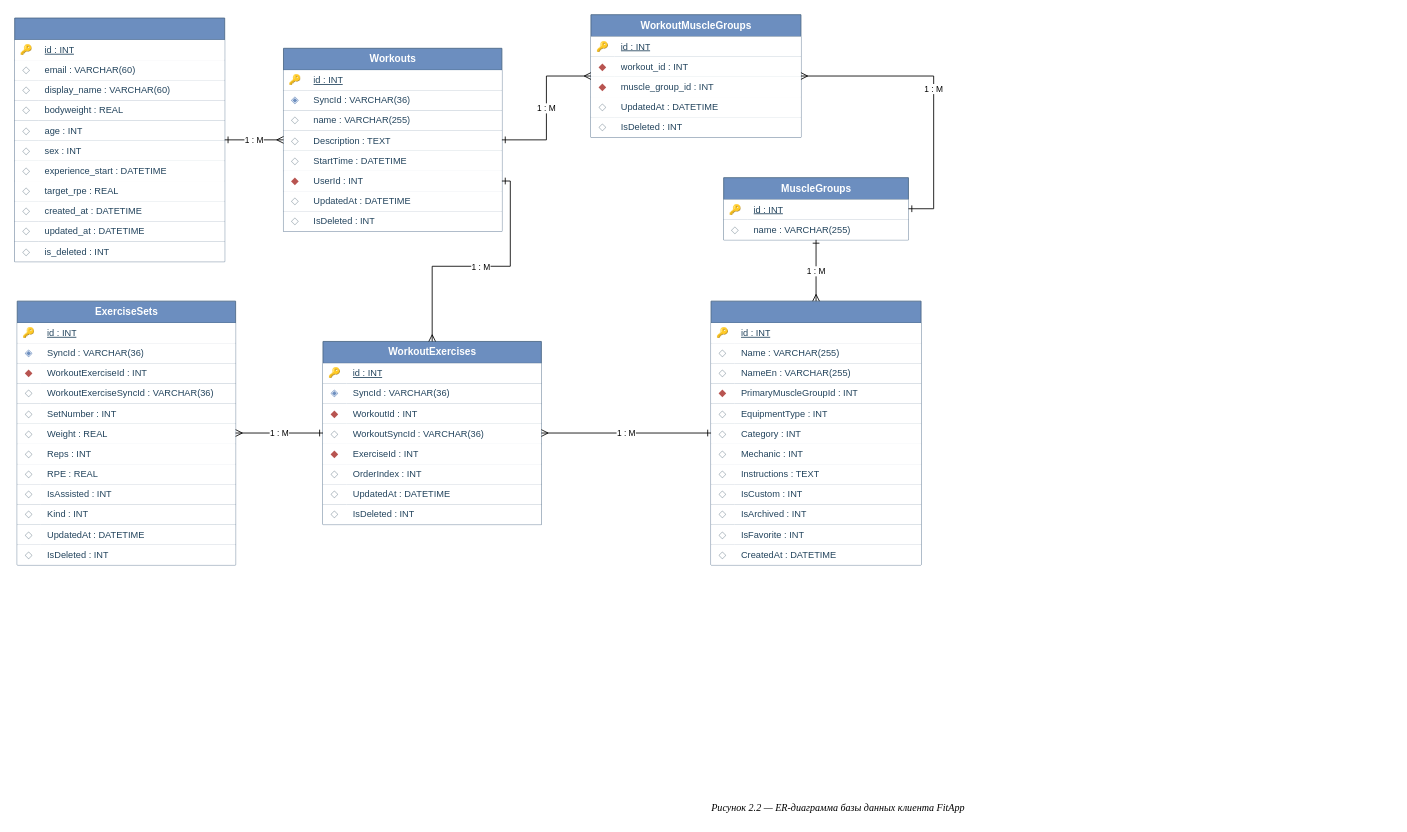
This 1407x832 diagram has some shape labels left out. The shapes that lost their labels are listed below. From the top down, each one's box as (x1, y1, x2, y2) in pixels, then its label:
(14, 17, 225, 262): users
(710, 300, 921, 565): Exercises
